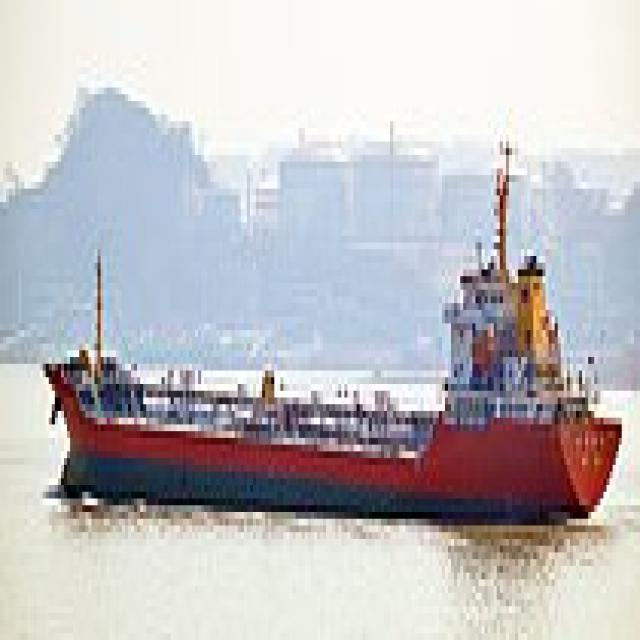Tanker: (36, 114, 622, 518)
